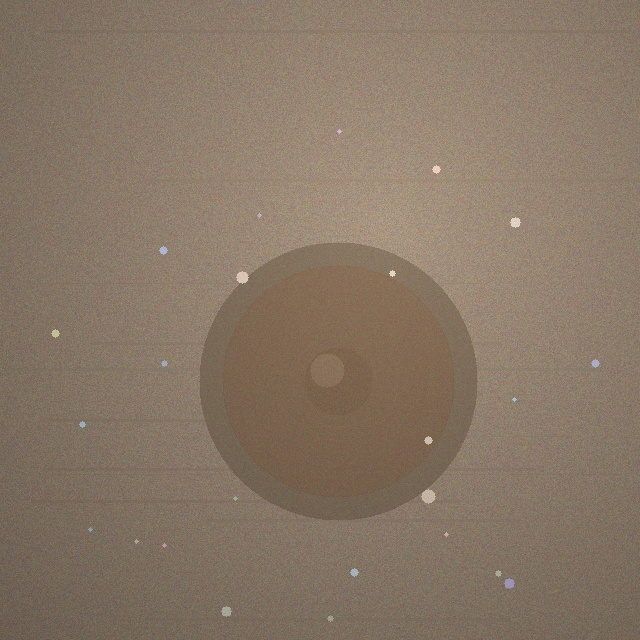overburn: (199, 242, 477, 520)
